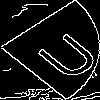U: (25, 25, 100, 83)
